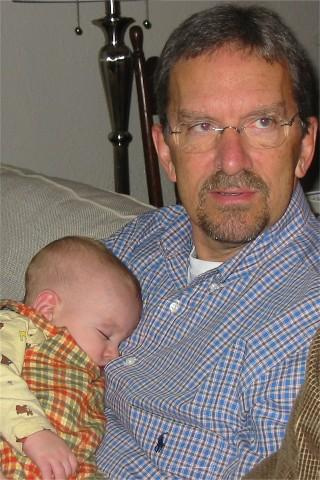without_mask: (136, 15, 320, 260), (19, 237, 154, 388)
